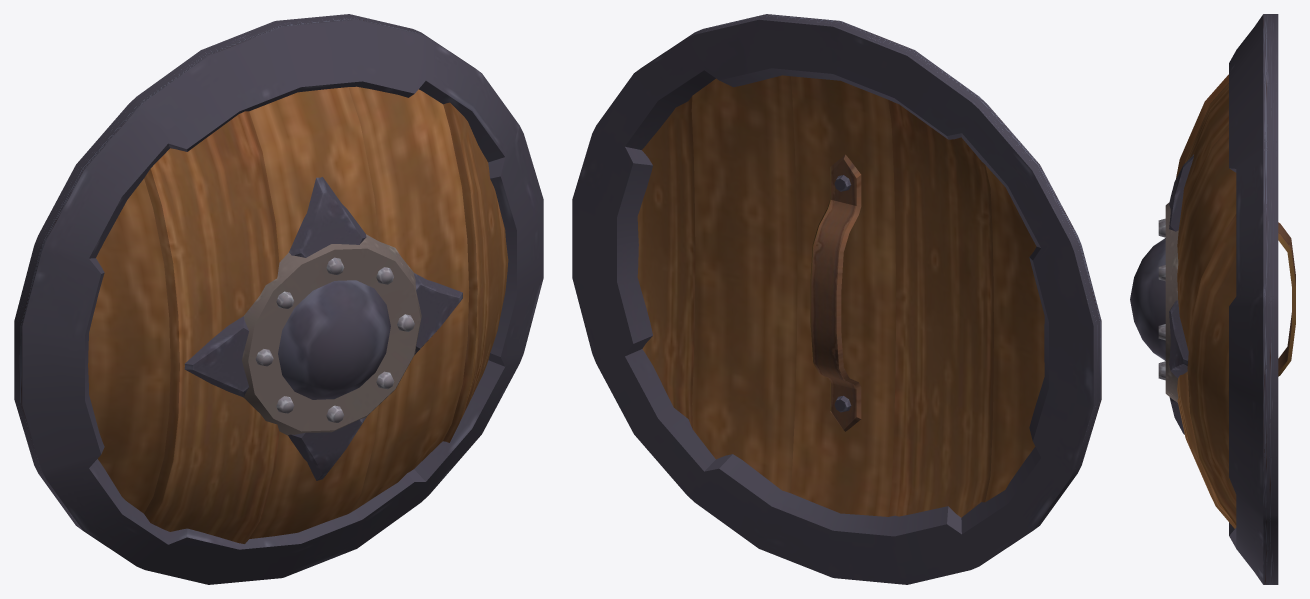
The model's file is Shield_Wooden.gltf.
3 views of the same model, side by side, from view 1: azimuth 30°, elevation 25°; view 2: azimuth 150°, elevation 25°; view 3: azimuth 270°, elevation 25° (orthographic). The views are drawn at different scales.
Parts seen in each view (by area): view 1: Shield_Wooden; view 2: Shield_Wooden; view 3: Shield_Wooden.
Part boxes in pixels (x1,y1,x2,y2): Shield_Wooden: (14,14,543,584); Shield_Wooden: (572,14,1101,584); Shield_Wooden: (1130,14,1295,584).
Size of the model in its own units: 0.6146 by 0.6209 by 0.1788.
Materials: 3 (3 with a texture image).
